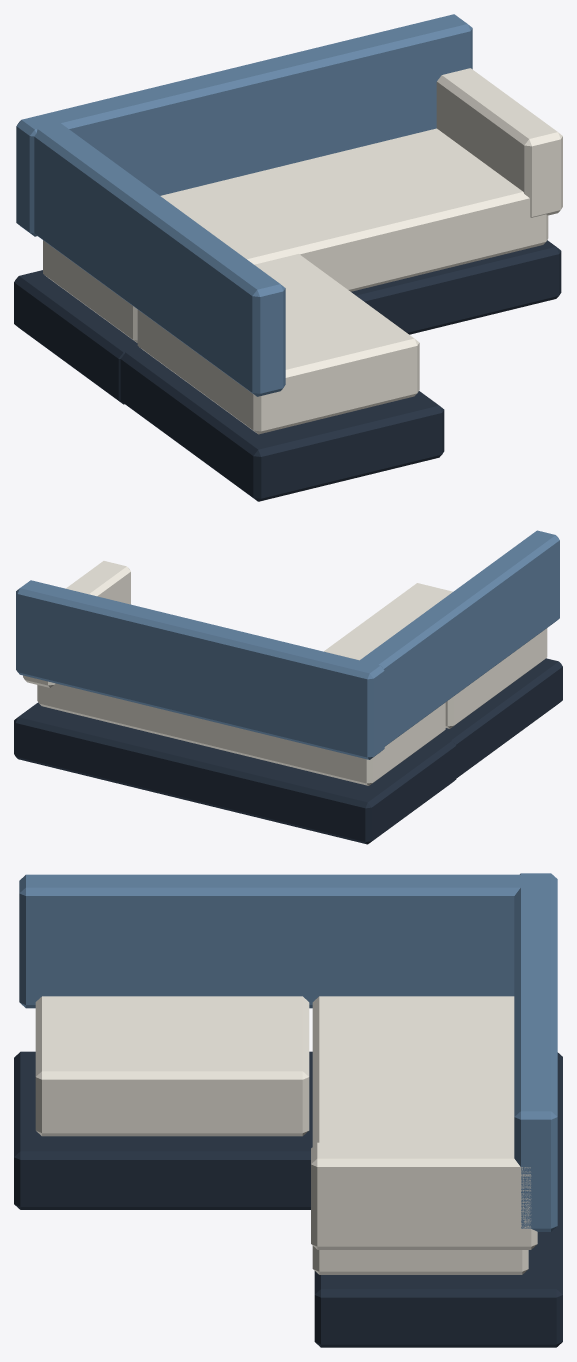
Rendered from lounge_03.glb.
3 renders of one model, top to bottom at view 1: azimuth 30°, elevation 25°; view 2: azimuth 150°, elevation 25°; view 3: azimuth 270°, elevation 25°, orthographic. The views are drawn at different scales.
Visible parts, largest first — view 1: Seat (×2), Back, SofaBase (×2), SideBack, ArmRest; view 2: Back, SofaBase (×2), SideBack, Seat (×2), ArmRest; view 3: Seat (×2), SideBack, SofaBase (×2), ArmRest, Back.
Part boxes in pixels (x1=…): Seat (×2): x1=43, y1=128, x2=548, y2=434; Back: x1=16, y1=14, x2=472, y2=236; SofaBase (×2): x1=14, y1=240, x2=561, y2=501; SideBack: x1=34, y1=121, x2=285, y2=396; ArmRest: x1=436, y1=68, x2=562, y2=217; Back: x1=16, y1=580, x2=384, y2=759; SofaBase (×2): x1=14, y1=658, x2=562, y2=844; SideBack: x1=356, y1=530, x2=559, y2=746; Seat (×2): x1=37, y1=583, x2=547, y2=785; ArmRest: x1=23, y1=561, x2=130, y2=687; Seat (×2): x1=35, y1=996, x2=528, y2=1274; SideBack: x1=19, y1=874, x2=534, y2=1008; SofaBase (×2): x1=14, y1=1051, x2=562, y2=1347; ArmRest: x1=311, y1=1142, x2=537, y2=1249; Back: x1=514, y1=873, x2=557, y2=1231.
Size of the model in its own units: 1.6 by 0.725 by 1.53.
